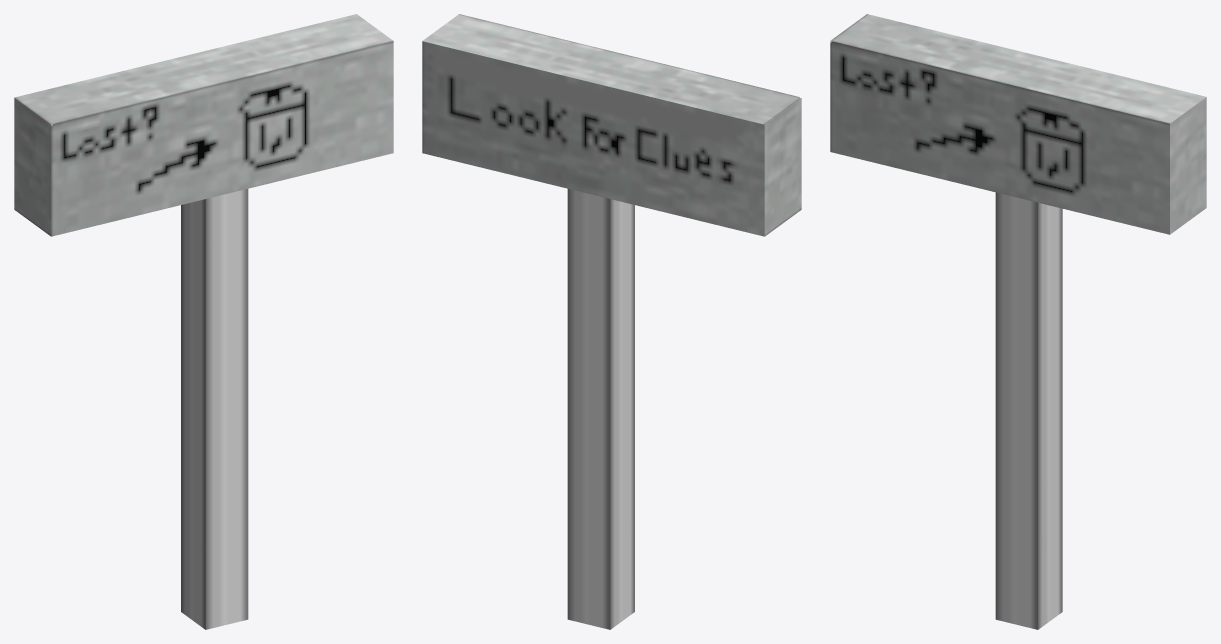
File: signalpole.fbx
3 views of the same model, side by side, from view 1: azimuth 30°, elevation 25°; view 2: azimuth 150°, elevation 25°; view 3: azimuth 330°, elevation 25° (orthographic).
Visible parts, largest first — view 1: mesh_1, mesh; view 2: mesh_1, mesh; view 3: mesh_1, mesh.
Part boxes in pixels (<box>): mesh_1: <box>14,14,393,236</box>; mesh: <box>181,189,248,629</box>; mesh_1: <box>422,14,801,236</box>; mesh: <box>567,189,634,629</box>; mesh_1: <box>830,14,1206,234</box>; mesh: <box>995,192,1062,629</box>.
Bounding box in the file's own units: 50 × 76.56 × 9.38.
Materials: 2 (2 with a texture image).
